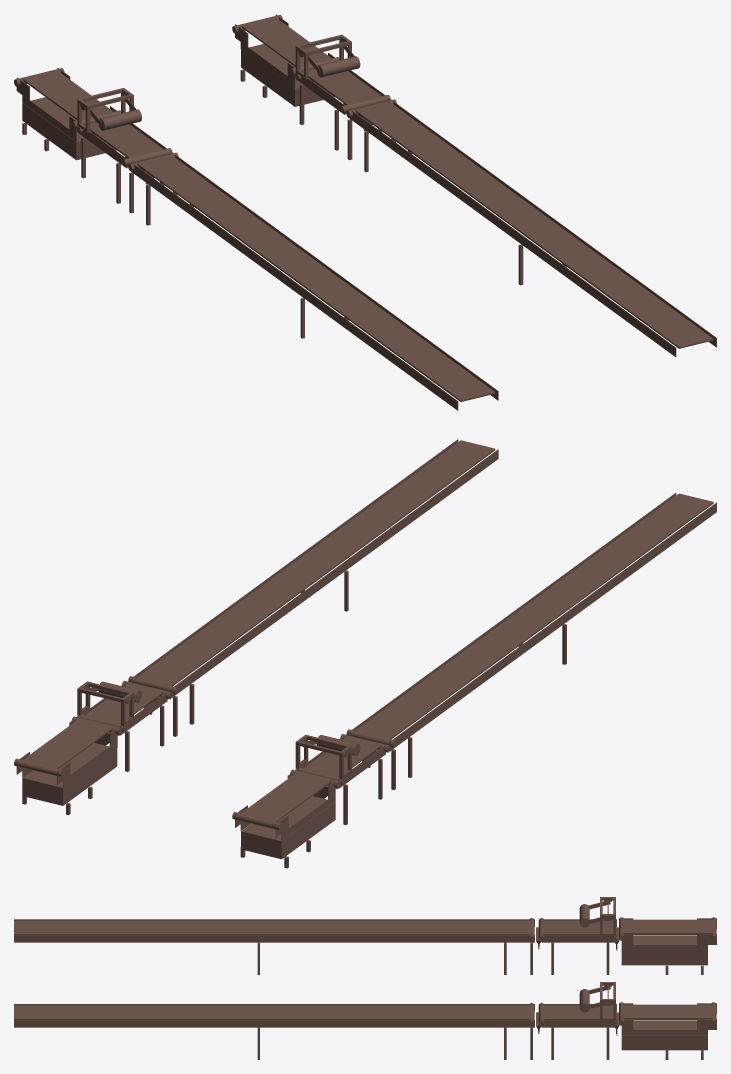
File: GCC-AAV-13220-30.nwd(90).fbx
The picture shows the model from 3 angles, top to bottom: view 1: azimuth 30°, elevation 25°; view 2: azimuth 150°, elevation 25°; view 3: azimuth 270°, elevation 25°; orthographic projection. The views are drawn at different scales.
Visible parts, largest first — view 1: BOX 13 of SUBEQUIPMENT 36 of EQUIPMENT /724-U-402, BOX 13 of SUBEQUIPMENT 50 of EQUIPMENT /724-U-401, BOX 1 of SUBEQUIPMENT 50 of EQUIPMENT /724-U-401, BOX 2 of SUBEQUIPMENT 36 of EQUIPMENT /724-U-402, BOX 4 of SUBEQUIPMENT /724-U-401-X-004, BOX 4 of SUBEQUIPMENT /724-U-402-X-004, BOX 1 of SUBEQUIPMENT /724-U-401-X-004, BOX 1 of SUBEQUIPMENT /724-U-402-X-004, BOX 25 of SUBEQUIPMENT /724-U-402-X-015H, BOX 25 of SUBEQUIPMENT /724-U-401-X-015H, BOX 1 of SUBEQUIPMENT 36 of EQUIPMENT /724-U-402, BOX 2 of SUBEQUIPMENT 50 of EQUIPMENT /724-U-401 (+2 smaller); view 2: BOX 13 of SUBEQUIPMENT 50 of EQUIPMENT /724-U-401, BOX 13 of SUBEQUIPMENT 36 of EQUIPMENT /724-U-402, BOX 2 of SUBEQUIPMENT 36 of EQUIPMENT /724-U-402, BOX 1 of SUBEQUIPMENT 50 of EQUIPMENT /724-U-401, BOX 4 of SUBEQUIPMENT /724-U-401-X-004, BOX 4 of SUBEQUIPMENT /724-U-402-X-004, BOX 1 of SUBEQUIPMENT /724-U-402-X-004, BOX 1 of SUBEQUIPMENT /724-U-401-X-004, BOX 1 of SUBEQUIPMENT 36 of EQUIPMENT /724-U-402, BOX 2 of SUBEQUIPMENT 50 of EQUIPMENT /724-U-401, BOX 25 of SUBEQUIPMENT /724-U-401-X-015H, BOX 25 of SUBEQUIPMENT /724-U-402-X-015H (+2 smaller); view 3: BOX 13 of SUBEQUIPMENT 36 of EQUIPMENT /724-U-402, BOX 13 of SUBEQUIPMENT 50 of EQUIPMENT /724-U-401, BOX 2 of SUBEQUIPMENT 50 of EQUIPMENT /724-U-401, BOX 1 of SUBEQUIPMENT 36 of EQUIPMENT /724-U-402, BOX 4 of SUBEQUIPMENT /724-U-402-X-004, BOX 4 of SUBEQUIPMENT /724-U-401-X-004, BOX 1 of SUBEQUIPMENT /724-U-401-X-004, BOX 1 of SUBEQUIPMENT /724-U-402-X-004, BOX 2 of SUBEQUIPMENT 36 of EQUIPMENT /724-U-402, BOX 1 of SUBEQUIPMENT 50 of EQUIPMENT /724-U-401, BOX 25 of SUBEQUIPMENT /724-U-402-X-015H, BOX 25 of SUBEQUIPMENT /724-U-401-X-015H (+4 smaller).
Boxes of the visible parts, left/top/right/bottom form: BOX 13 of SUBEQUIPMENT 36 of EQUIPMENT /724-U-402: left=355, top=101, right=713, bottom=348; BOX 13 of SUBEQUIPMENT 50 of EQUIPMENT /724-U-401: left=136, top=154, right=495, bottom=401; BOX 1 of SUBEQUIPMENT 50 of EQUIPMENT /724-U-401: left=131, top=162, right=458, bottom=410; BOX 2 of SUBEQUIPMENT 36 of EQUIPMENT /724-U-402: left=349, top=109, right=676, bottom=356; BOX 4 of SUBEQUIPMENT /724-U-401-X-004: left=22, top=97, right=116, bottom=160; BOX 4 of SUBEQUIPMENT /724-U-402-X-004: left=241, top=44, right=334, bottom=106; BOX 1 of SUBEQUIPMENT /724-U-401-X-004: left=22, top=70, right=113, bottom=119; BOX 1 of SUBEQUIPMENT /724-U-402-X-004: left=241, top=16, right=331, bottom=66; BOX 25 of SUBEQUIPMENT /724-U-402-X-015H: left=303, top=69, right=382, bottom=104; BOX 25 of SUBEQUIPMENT /724-U-401-X-015H: left=85, top=122, right=163, bottom=157; BOX 1 of SUBEQUIPMENT 36 of EQUIPMENT /724-U-402: left=389, top=99, right=716, bottom=347; BOX 2 of SUBEQUIPMENT 50 of EQUIPMENT /724-U-401: left=171, top=152, right=498, bottom=400; BOX 13 of SUBEQUIPMENT 50 of EQUIPMENT /724-U-401: left=355, top=493, right=713, bottom=739; BOX 13 of SUBEQUIPMENT 36 of EQUIPMENT /724-U-402: left=136, top=440, right=495, bottom=686; BOX 2 of SUBEQUIPMENT 36 of EQUIPMENT /724-U-402: left=171, top=449, right=498, bottom=697; BOX 1 of SUBEQUIPMENT 50 of EQUIPMENT /724-U-401: left=389, top=502, right=716, bottom=750; BOX 4 of SUBEQUIPMENT /724-U-401-X-004: left=241, top=796, right=335, bottom=859; BOX 4 of SUBEQUIPMENT /724-U-402-X-004: left=22, top=743, right=117, bottom=805; BOX 1 of SUBEQUIPMENT /724-U-402-X-004: left=22, top=718, right=113, bottom=768; BOX 1 of SUBEQUIPMENT /724-U-401-X-004: left=240, top=771, right=331, bottom=821; BOX 1 of SUBEQUIPMENT 36 of EQUIPMENT /724-U-402: left=131, top=439, right=458, bottom=682; BOX 2 of SUBEQUIPMENT 50 of EQUIPMENT /724-U-401: left=349, top=493, right=676, bottom=735; BOX 25 of SUBEQUIPMENT /724-U-401-X-015H: left=303, top=735, right=382, bottom=776; BOX 25 of SUBEQUIPMENT /724-U-402-X-015H: left=85, top=682, right=163, bottom=723; BOX 13 of SUBEQUIPMENT 36 of EQUIPMENT /724-U-402: left=14, top=1005, right=531, bottom=1019; BOX 13 of SUBEQUIPMENT 50 of EQUIPMENT /724-U-401: left=14, top=920, right=531, bottom=934; BOX 2 of SUBEQUIPMENT 50 of EQUIPMENT /724-U-401: left=14, top=935, right=534, bottom=942; BOX 1 of SUBEQUIPMENT 36 of EQUIPMENT /724-U-402: left=14, top=1020, right=534, bottom=1027; BOX 4 of SUBEQUIPMENT /724-U-402-X-004: left=621, top=1020, right=707, bottom=1050; BOX 4 of SUBEQUIPMENT /724-U-401-X-004: left=621, top=935, right=707, bottom=965; BOX 1 of SUBEQUIPMENT /724-U-401-X-004: left=621, top=919, right=713, bottom=934; BOX 1 of SUBEQUIPMENT /724-U-402-X-004: left=621, top=1004, right=713, bottom=1019; BOX 2 of SUBEQUIPMENT 36 of EQUIPMENT /724-U-402: left=14, top=1004, right=534, bottom=1011; BOX 1 of SUBEQUIPMENT 50 of EQUIPMENT /724-U-401: left=14, top=919, right=534, bottom=926; BOX 25 of SUBEQUIPMENT /724-U-402-X-015H: left=541, top=1005, right=613, bottom=1019; BOX 25 of SUBEQUIPMENT /724-U-401-X-015H: left=541, top=920, right=613, bottom=934.
Bounding box in the file's own units: 182 × 49.15 × 523.
